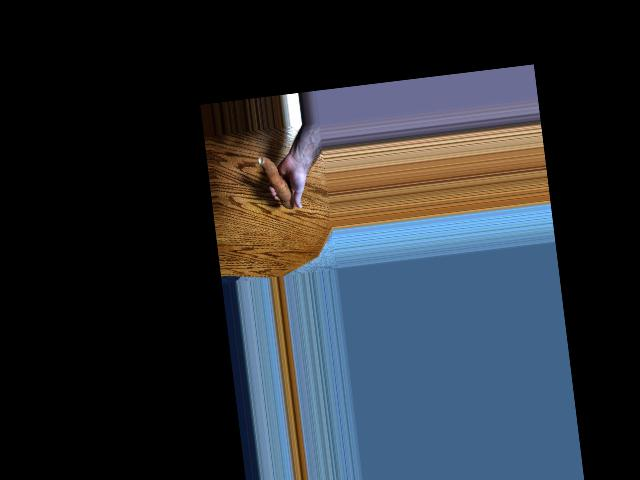sweet_potato: (258, 152, 294, 214)
